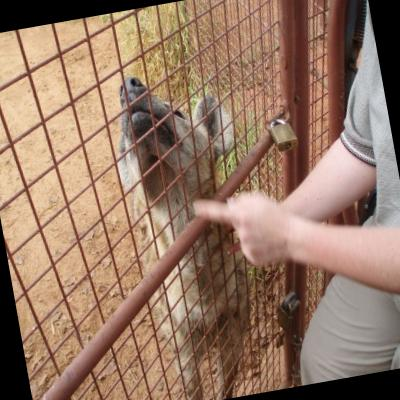hyenas: (80, 48, 290, 400)
